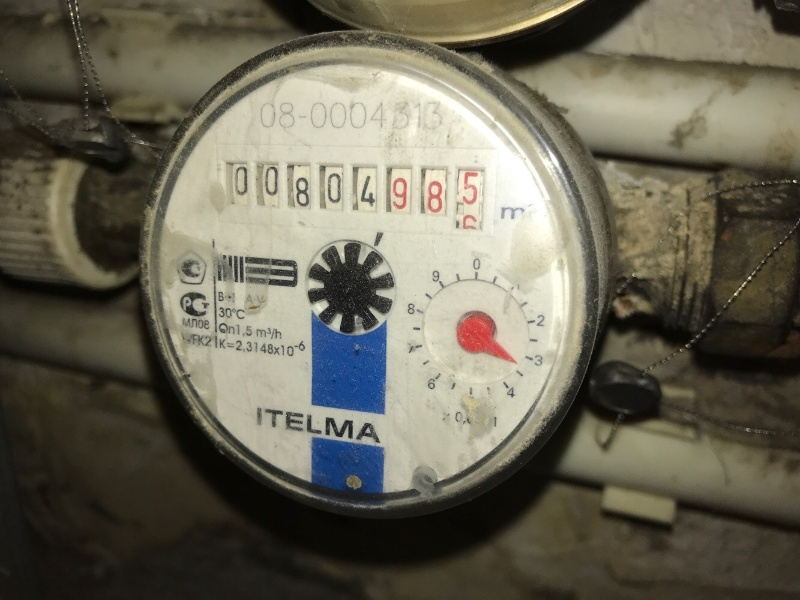dial: (206, 135, 491, 224)
